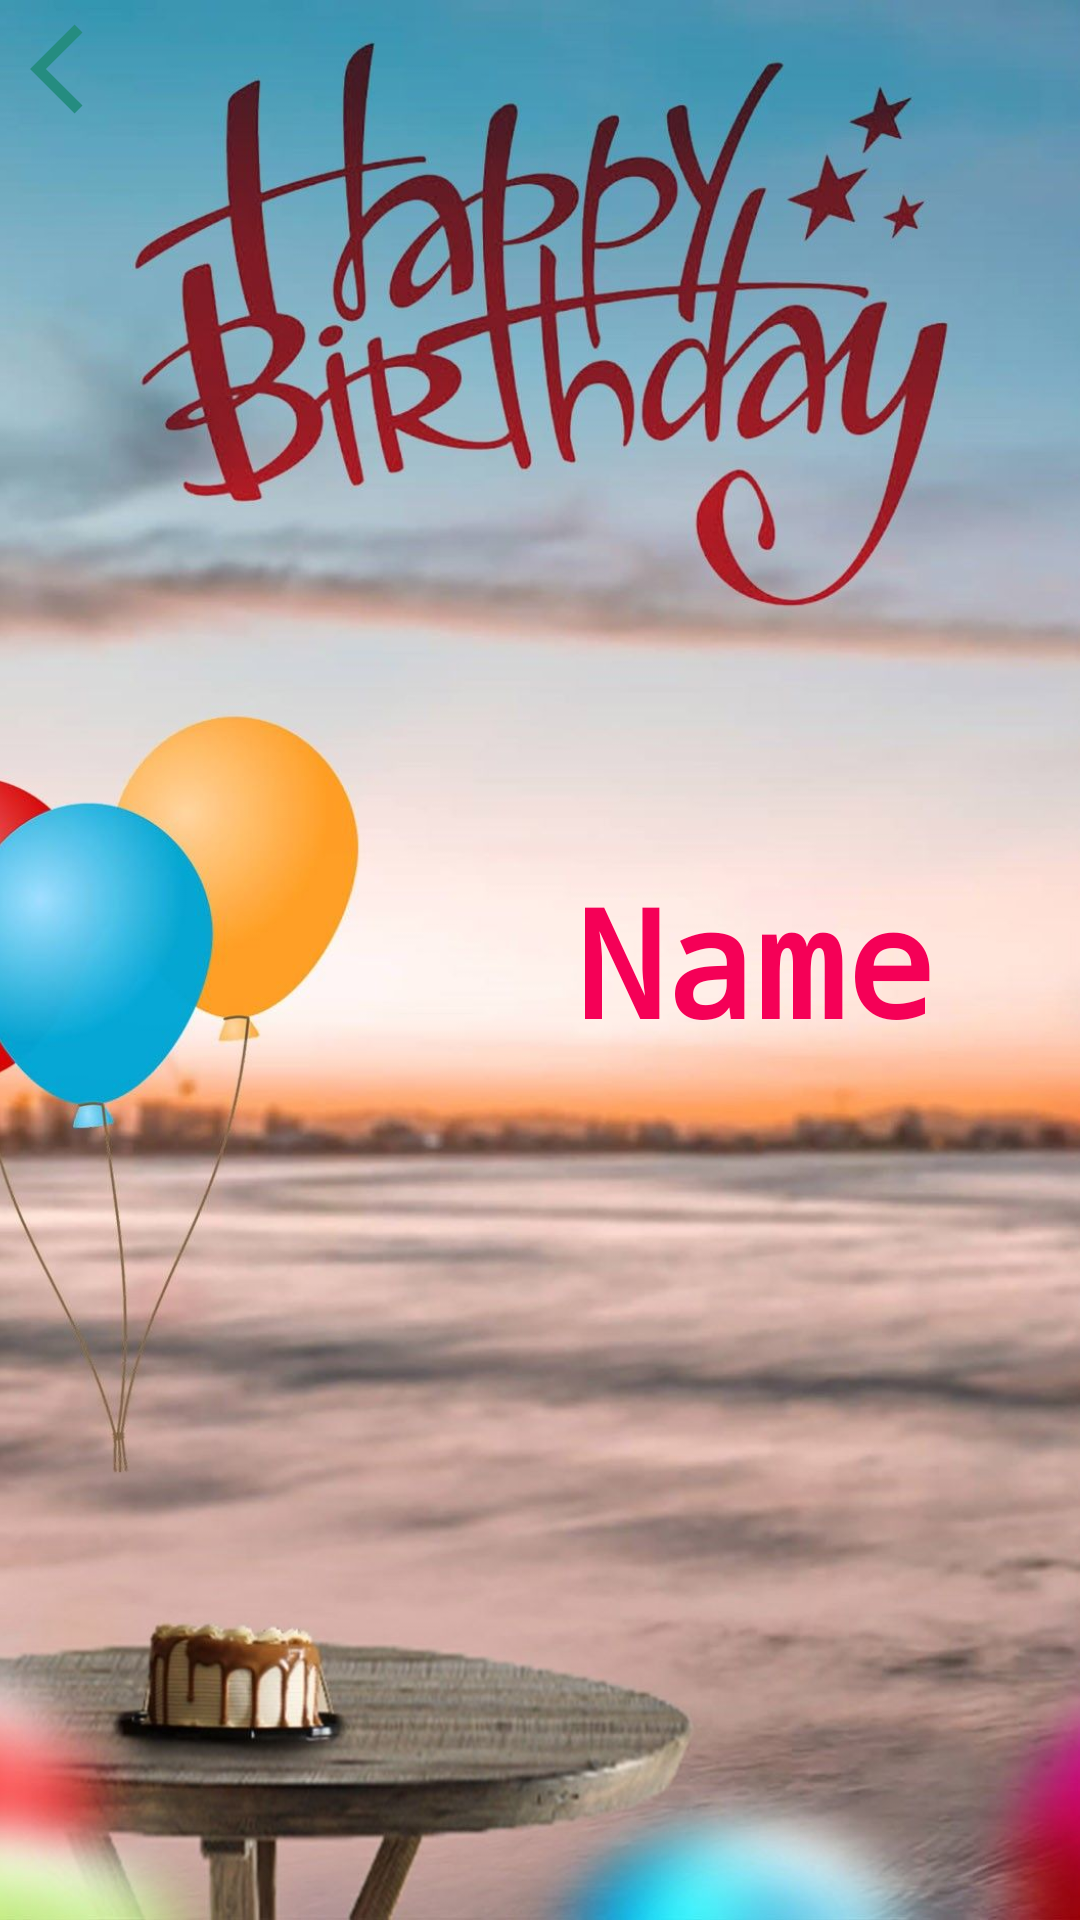

Icon bounding boxes for this 1080px×1920px phone screenshot, format (x1, y1, x2, y2):
back: (30, 15, 138, 114)
